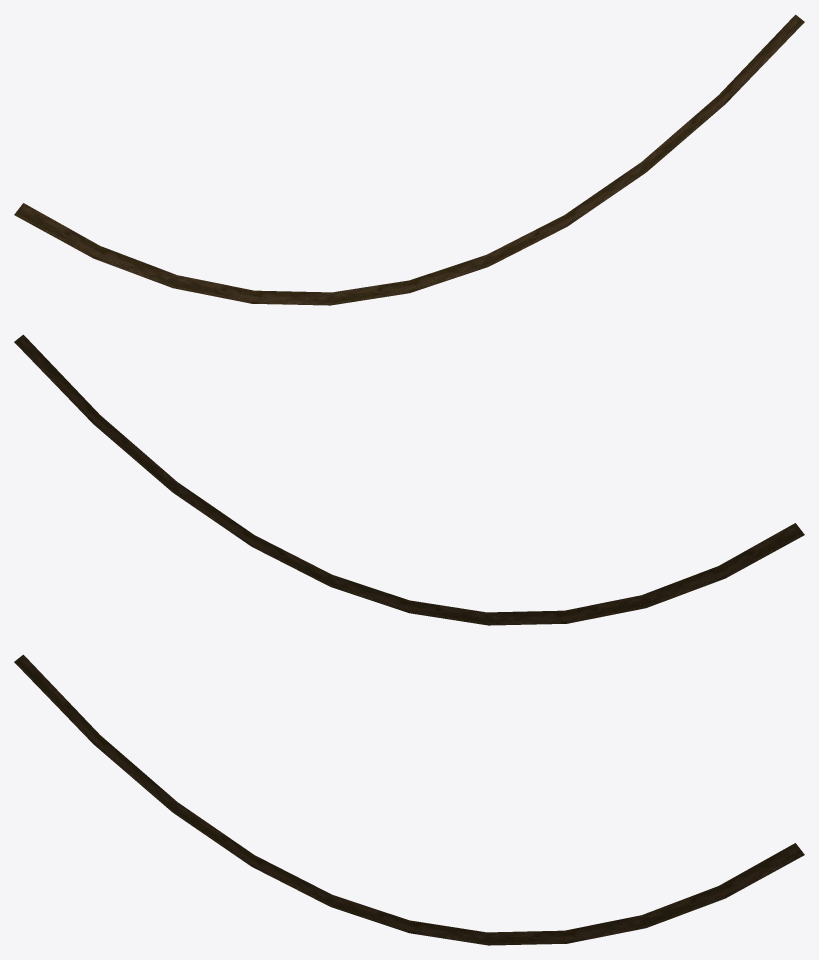
The model's file is plant_yewai_piaodongtengman.FBX.
3 views of the same model, one above another, from view 1: azimuth 30°, elevation 25°; view 2: azimuth 150°, elevation 25°; view 3: azimuth 330°, elevation 25° (orthographic).
Parts seen in each view (by area): view 1: plant_yewai_piaodongtengman; view 2: plant_yewai_piaodongtengman; view 3: plant_yewai_piaodongtengman.
Part boxes in pixels (x1=…): plant_yewai_piaodongtengman: x1=14, y1=14, x2=804, y2=305; plant_yewai_piaodongtengman: x1=14, y1=334, x2=804, y2=625; plant_yewai_piaodongtengman: x1=14, y1=654, x2=804, y2=945.
Bounding box in the file's own units: 60.92 × 13.59 × 3.85e-15.
